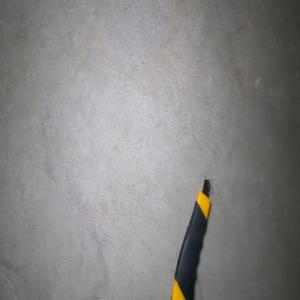Cutter: (169, 178, 211, 300)
